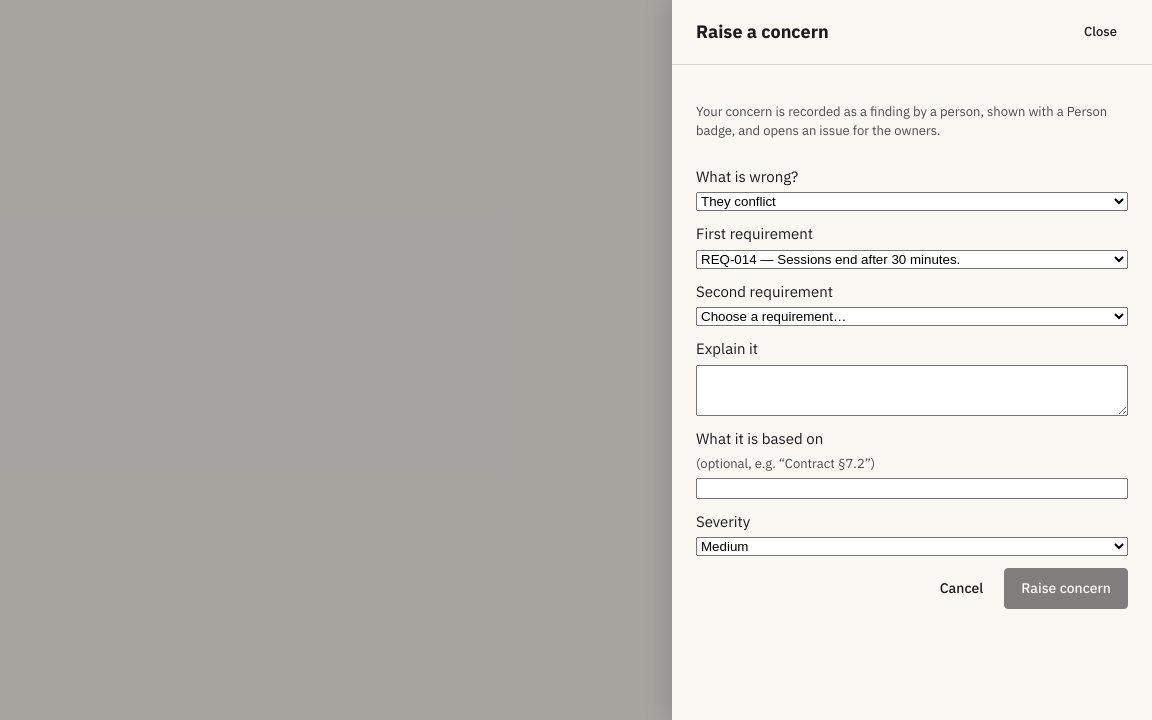
Test case: RaiseConcernDialog › needs one requirement for wording
Step 1. Select "The wording is ambiguous" in the dropdown labelled "What is wrong?" → {"x": 912, "y": 202}, box x1=696 y1=192 x2=1128 y2=211
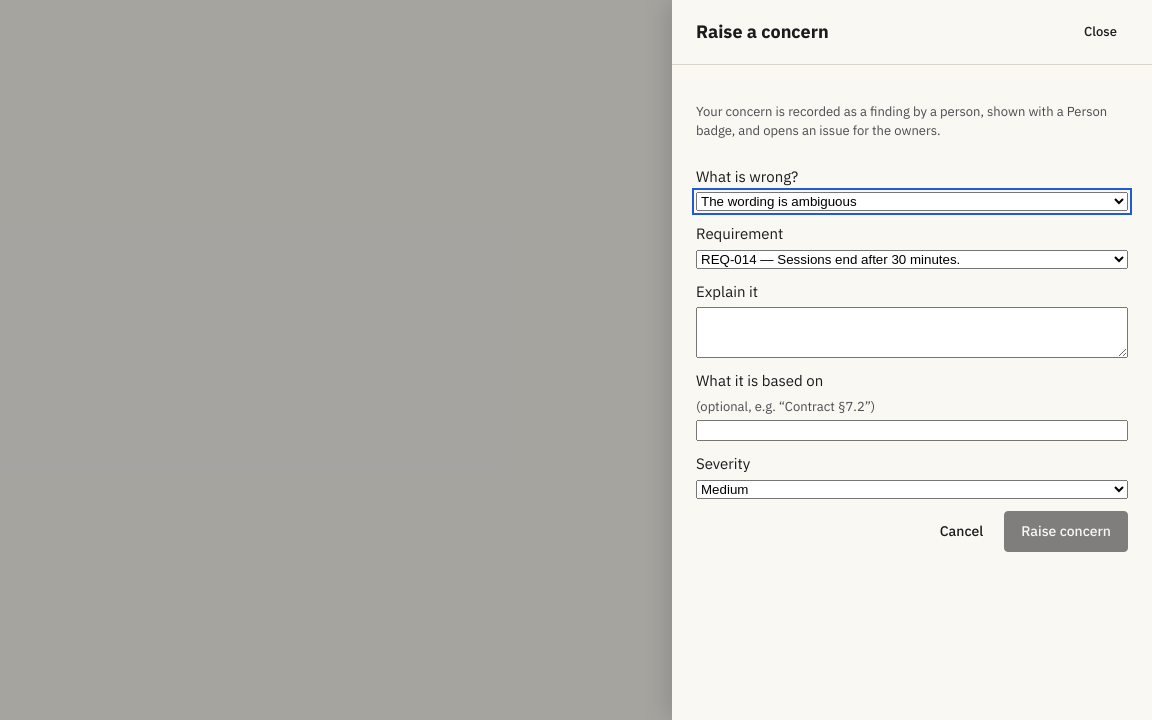
Expected: the dropdown labelled "Requirement" shows "REQ-014 — Sessions end after 30 minutes.", x1=696 y1=250 x2=1128 y2=268
Expected: the label labelled "Second requirement" is gone
